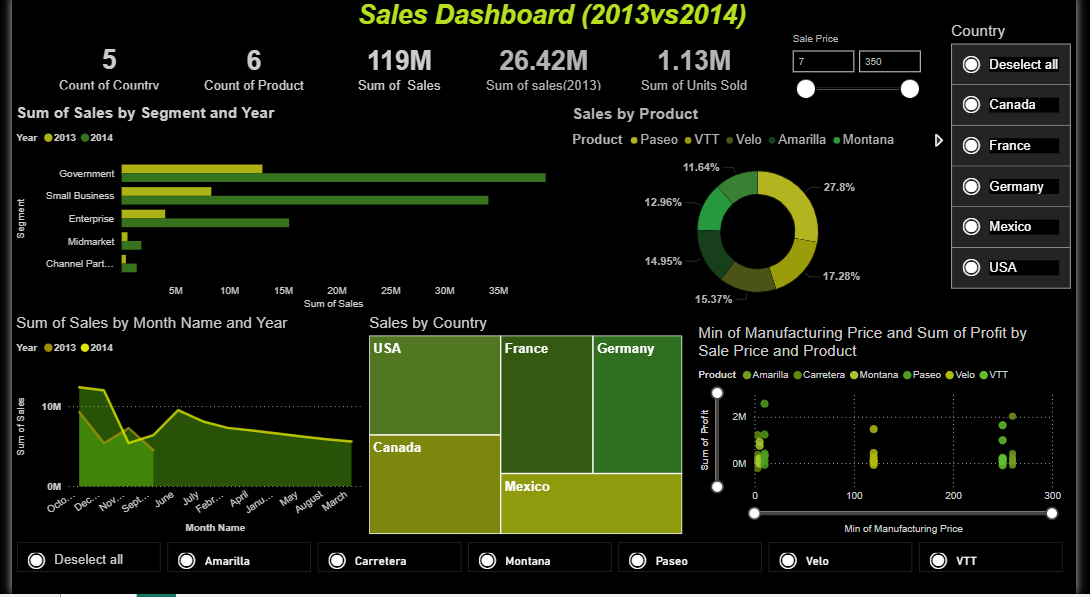

This screenshot's page, from the dashboard's own definition file:
{"tool":"powerbi","page":{"name":"Page 1","canvas":[1280,720],"ordinal":0},"visuals":[{"type":"textbox","box":[333.1,0,633.1,50.9],"z":0},{"type":"clusteredBarChart","fields":{"Y":["Sum(Sheet1. Sales)"],"Category":["Sheet1.Segment"],"Series":["Sheet1.Year"]},"box":[0,130.1,659.6,252.3],"z":1000},{"type":"card","fields":{"Values":["Count(Sheet1.Product)"]},"box":[206.3,51.2,170.8,67],"z":2000},{"type":"card","fields":{"Values":["Count(Sheet1.Country)"]},"box":[38.5,50.9,156.9,67.4],"z":3000},{"type":"card","fields":{"Values":["Sum(Sheet1. Sales)"]},"box":[377.1,51.2,178.7,67],"z":4000},{"type":"card","fields":{"Values":["Sum(Sheet1.sales(2013))"]},"box":[561,51.2,157.7,67],"z":5000},{"type":"card","fields":{"Values":["Sum(Sheet1.Units Sold)"]},"box":[734.5,51.2,173.4,67],"z":6000},{"type":"slicer","fields":{"Values":["Sheet1.Sale Price"]},"box":[927.6,39.4,174.7,90.7],"z":7000},{"type":"donutChart","title":" Sales by Product","fields":{"Y":["Sum(Sheet1. Sales)"],"Category":["Sheet1.Product"]},"box":[668.9,130.8,456.9,251.9],"z":8000},{"type":"treemap","title":"Sales by Country","fields":{"Group":["Sheet1.Country"],"Values":["Sum(Sheet1. Sales)"]},"box":[425.3,382.6,386.8,269.8],"z":9000},{"type":"areaChart","fields":{"Category":["Sheet1.Month Name"],"Y":["Sum(Sheet1. Sales)"],"Series":["Sheet1.Year"]},"box":[0,382.3,425.7,269.3],"z":10000},{"type":"scatterChart","fields":{"Category":["Sheet1.Sale Price"],"X":["Min(Sheet1.Manufacturing Price)"],"Y":["Sum(Sheet1.Profit)"],"Series":["Sheet1.Product"]},"box":[821.7,395,447.3,256],"z":11000},{"type":"advancedSlicerVisual","fields":{"Values":["Sheet1.Country"]},"box":[1125.8,31.7,154.2,328.9],"z":12000},{"type":"advancedSlicerVisual","fields":{"Values":["Sheet1.Product"]},"box":[0,651.7,1274.5,48.6],"z":13000}]}

Visuals, with their boxes in screenshot pixels (x1, y1, x2, y2), scaled from the page's 1280x720 canvas onto the 1090x597 screenshot:
textbox: box(284, 0, 823, 42)
clusteredBarChart - Sum(Sheet1. Sales) x Sheet1.Segment: box(0, 108, 562, 317)
card - Count(Sheet1.Product): box(176, 42, 321, 98)
card - Count(Sheet1.Country): box(33, 42, 166, 98)
card - Sum(Sheet1. Sales): box(321, 42, 473, 98)
card - Sum(Sheet1.sales(2013)): box(478, 42, 612, 98)
card - Sum(Sheet1.Units Sold): box(625, 42, 773, 98)
slicer - Sheet1.Sale Price: box(790, 33, 939, 108)
" Sales by Product" donutChart: box(570, 108, 959, 317)
"Sales by Country" treemap: box(362, 317, 692, 541)
areaChart - Sheet1.Month Name x Sum(Sheet1. Sales): box(0, 317, 363, 540)
scatterChart - Sheet1.Sale Price x Min(Sheet1.Manufacturing Price): box(700, 328, 1081, 540)
advancedSlicerVisual - Sheet1.Country: box(959, 26, 1089, 299)
advancedSlicerVisual - Sheet1.Product: box(0, 540, 1085, 581)
